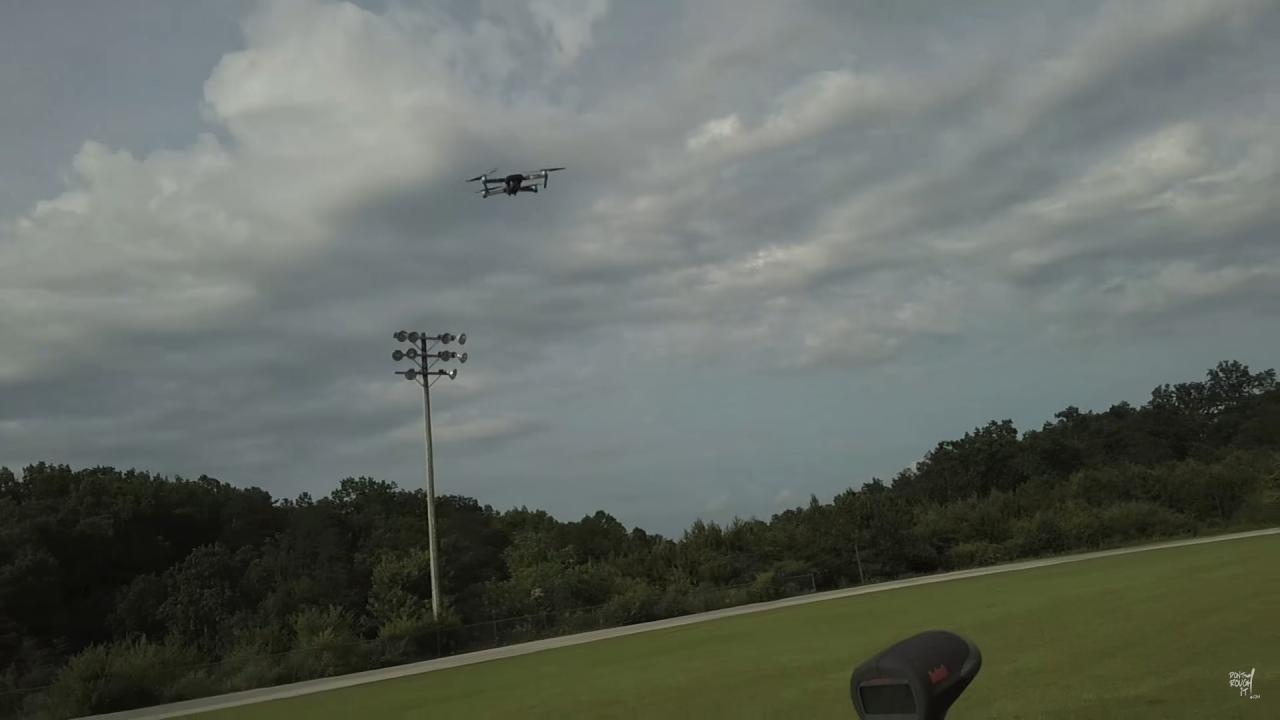Drone: (454, 157, 574, 210)
